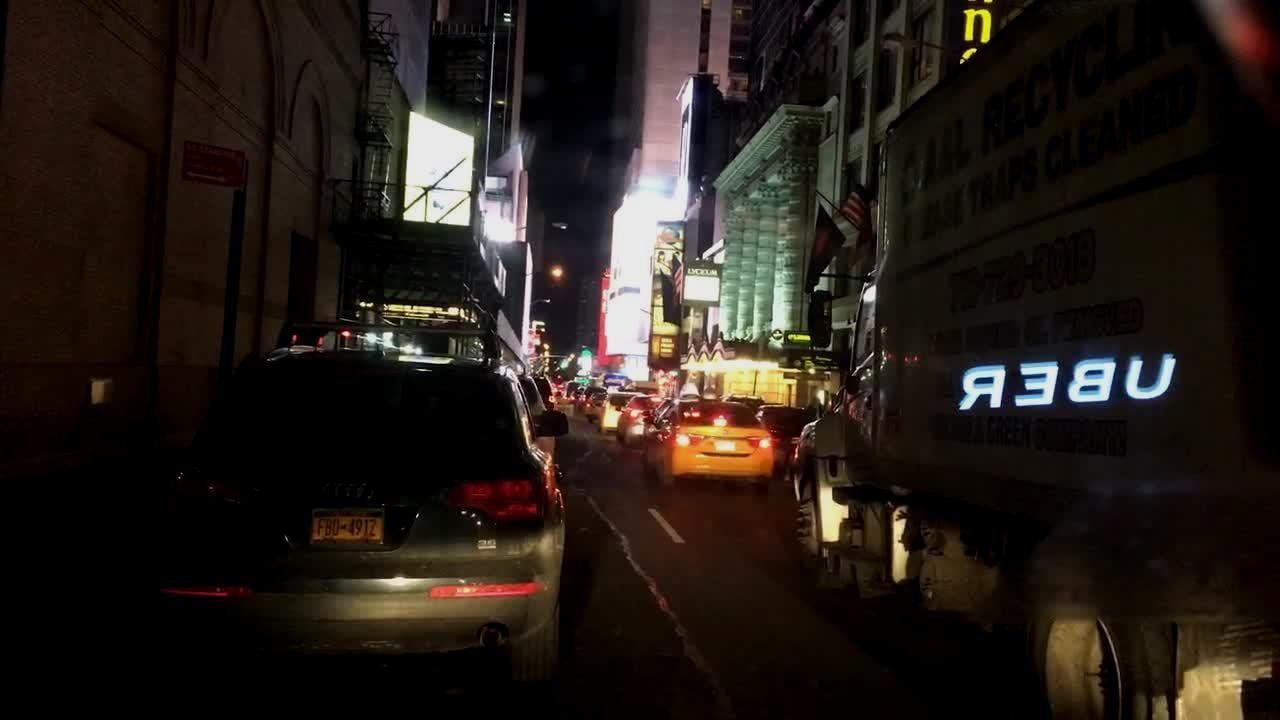Audi: (313, 469, 382, 505)
